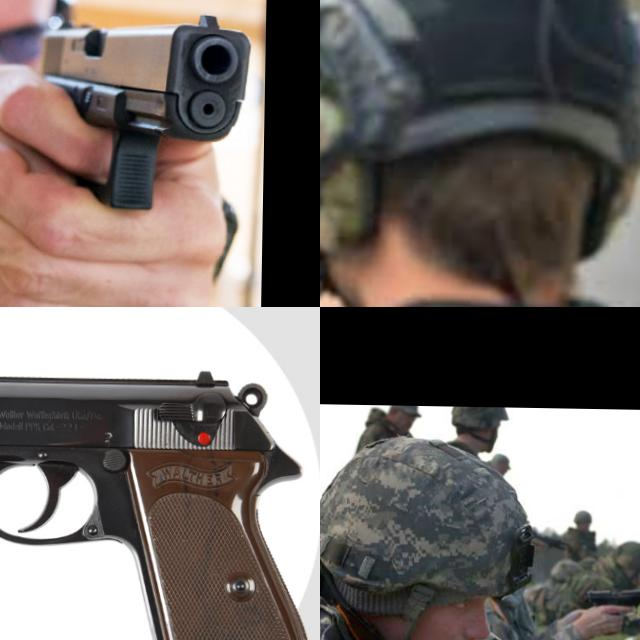handgun: (0, 361, 318, 640), (25, 8, 257, 216), (320, 57, 388, 166), (584, 585, 640, 614)
